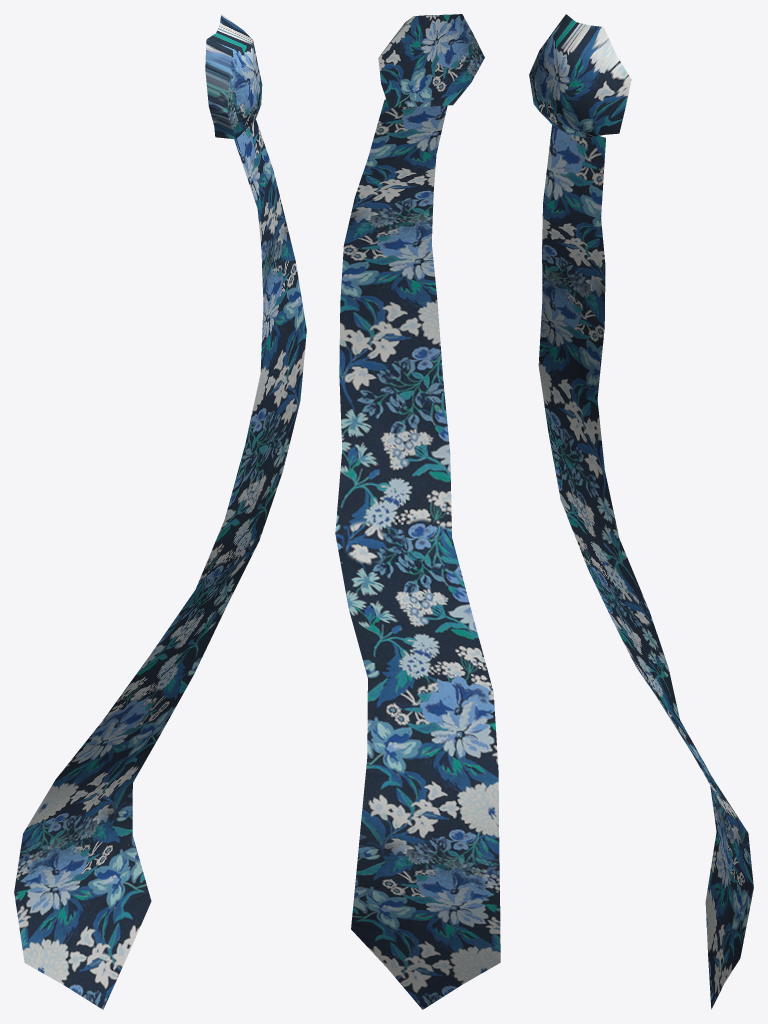
Rendered from Pose-10_SuitTie-2.fbx.
3 views of the same model, side by side, from view 1: azimuth 30°, elevation 25°; view 2: azimuth 150°, elevation 25°; view 3: azimuth 270°, elevation 25° (orthographic). The views are drawn at different scales.
Visible parts, largest first — view 1: Pose-10_SuitTie-2; view 2: Pose-10_SuitTie-2; view 3: Pose-10_SuitTie-2.
Part boxes in pixels (x1,y1,x2,y2): Pose-10_SuitTie-2: [14, 14, 306, 1009]; Pose-10_SuitTie-2: [335, 14, 500, 1009]; Pose-10_SuitTie-2: [529, 14, 753, 1009].
Size of the model in its own units: 11.02 by 46.15 by 9.27.
